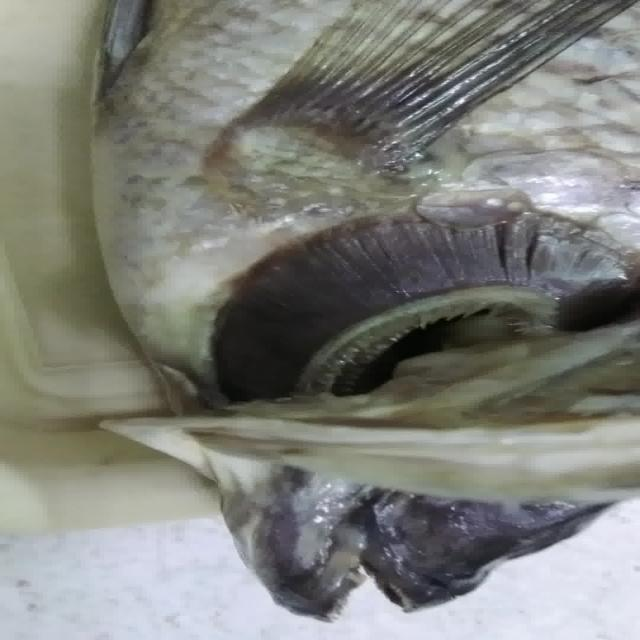Non-Fresh: (150, 178, 640, 410)
